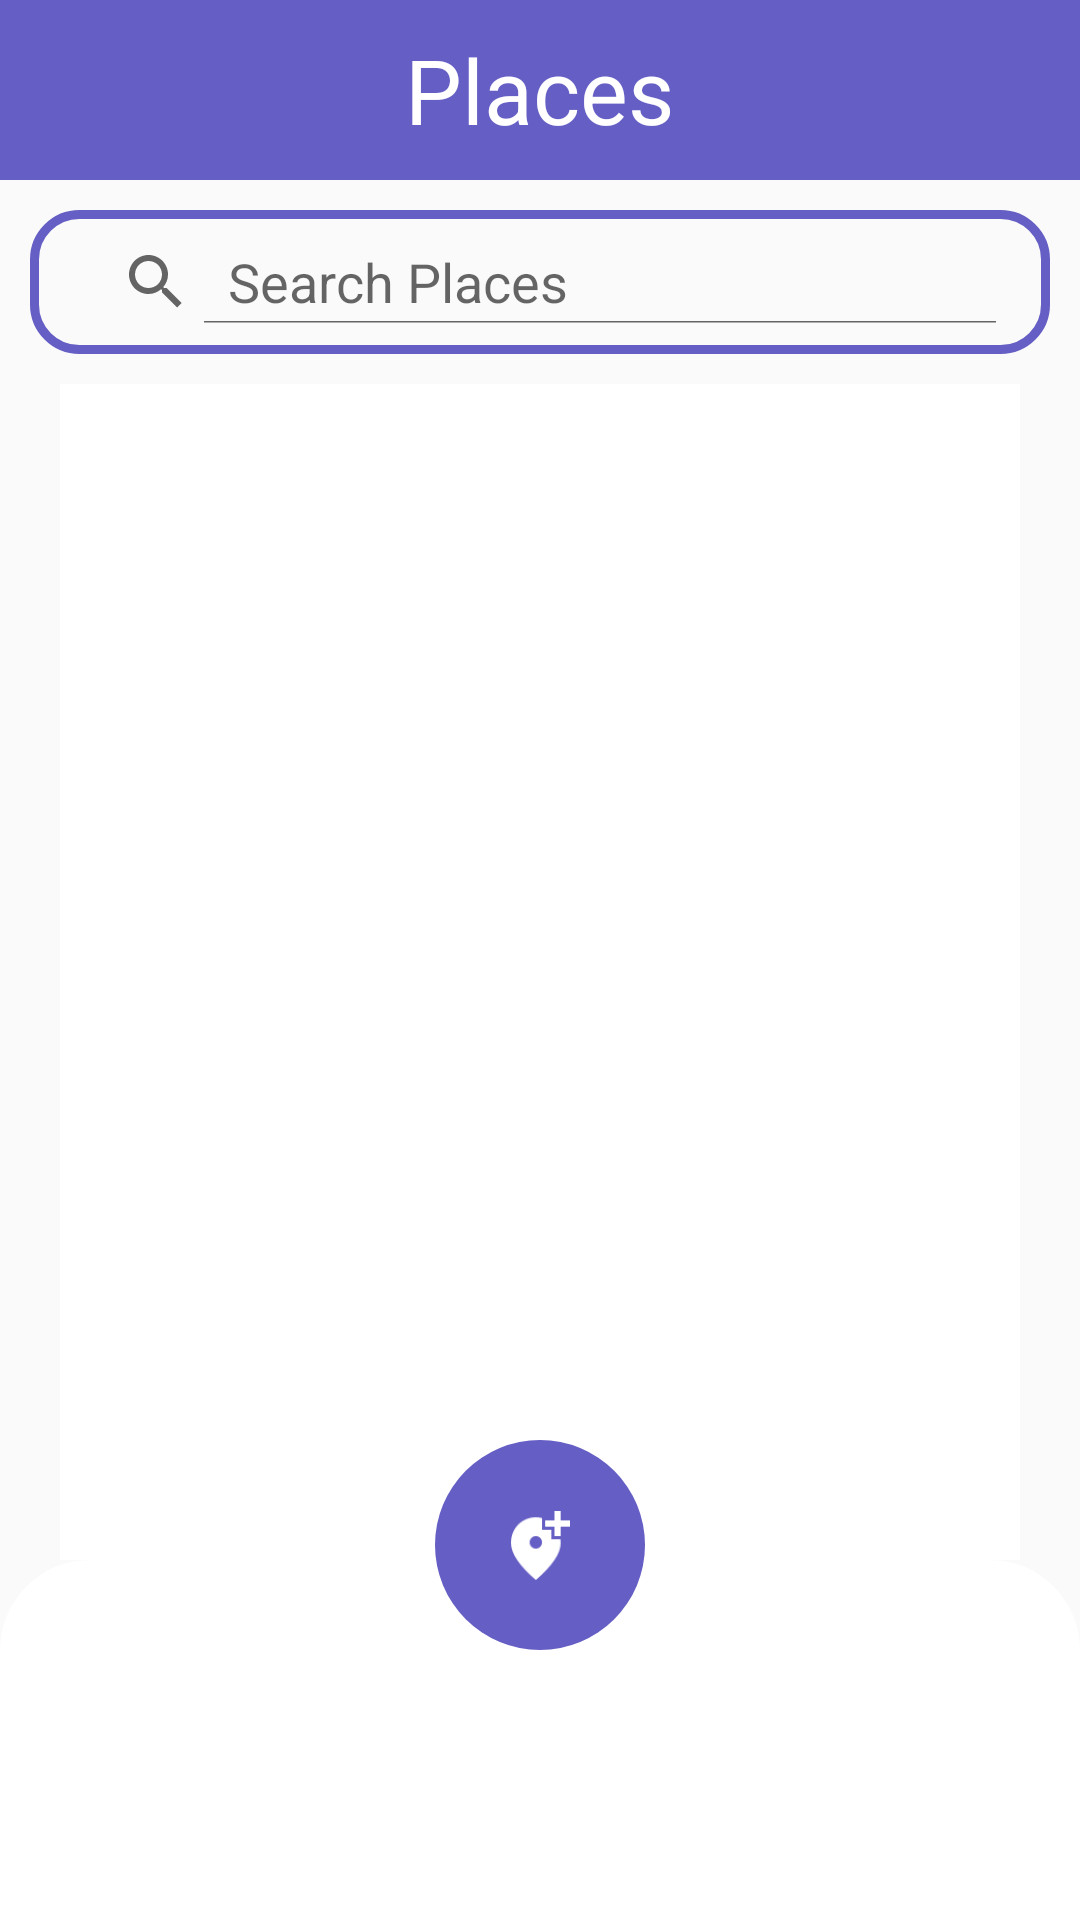

Named icons in this screenshot (1080w x 1920h) and their bounding boxes, {"left": x1, "top": y1, "right": x2, "bottom": y2}:
place: {"left": 435, "top": 1440, "right": 645, "bottom": 1650}
